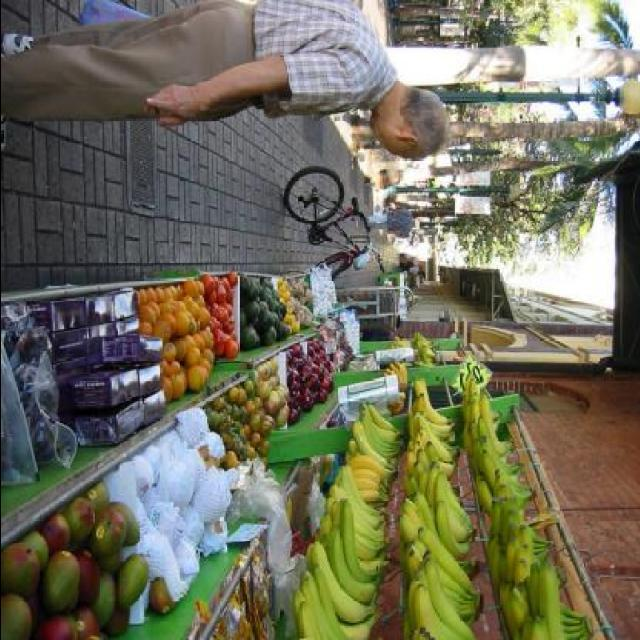Banana: (290, 376, 573, 639), (386, 331, 434, 371)
